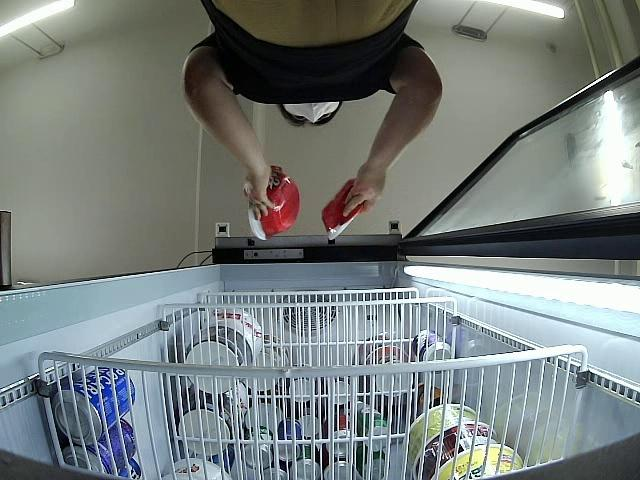00_hand: (342, 163, 385, 219), (241, 165, 277, 222)
10_wangTtukkeong: (245, 164, 296, 239), (319, 177, 370, 242)
